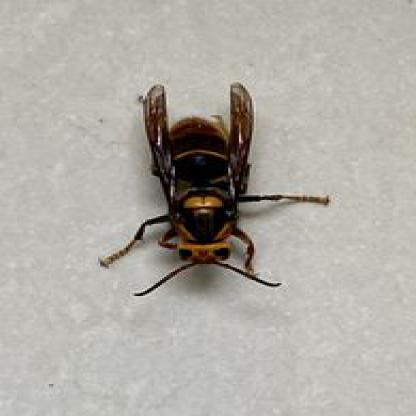Asian Hornet: (96, 80, 334, 301)
